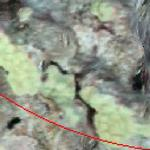alive: (3, 3, 147, 147)
